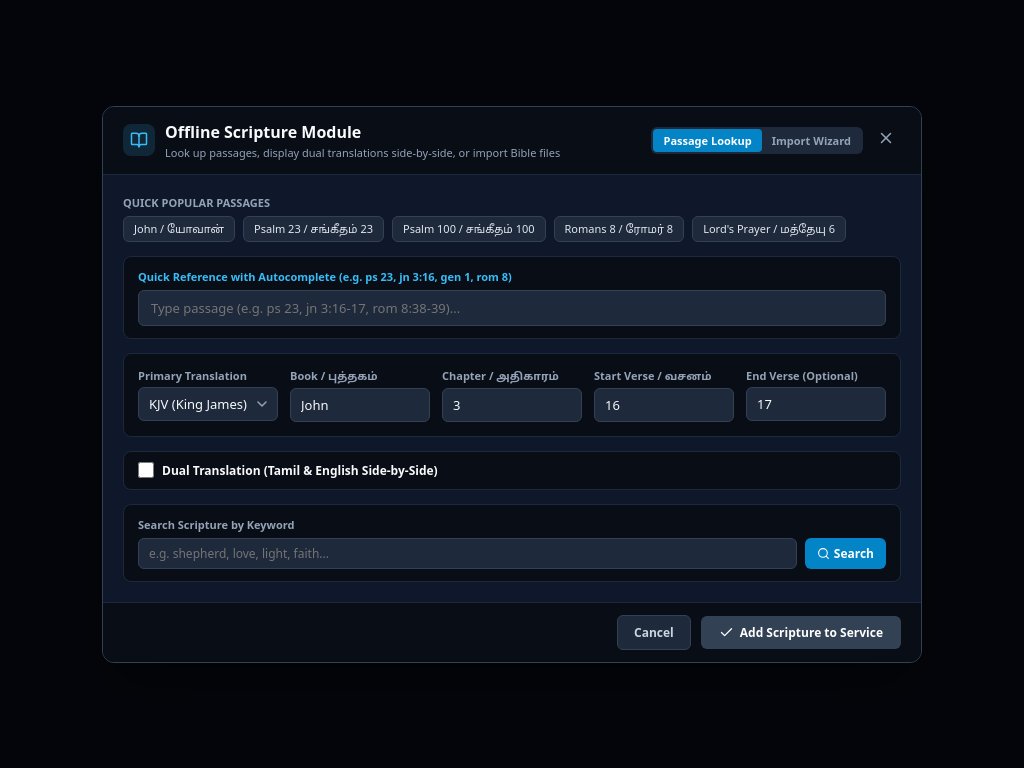
Test: Bible lookup box › choosing a book moves on to its chapters, and choosing a passage fills the reference
Type "joh" into the field with test id "quick-reference-input" at (512, 308), box [138, 290, 886, 326]
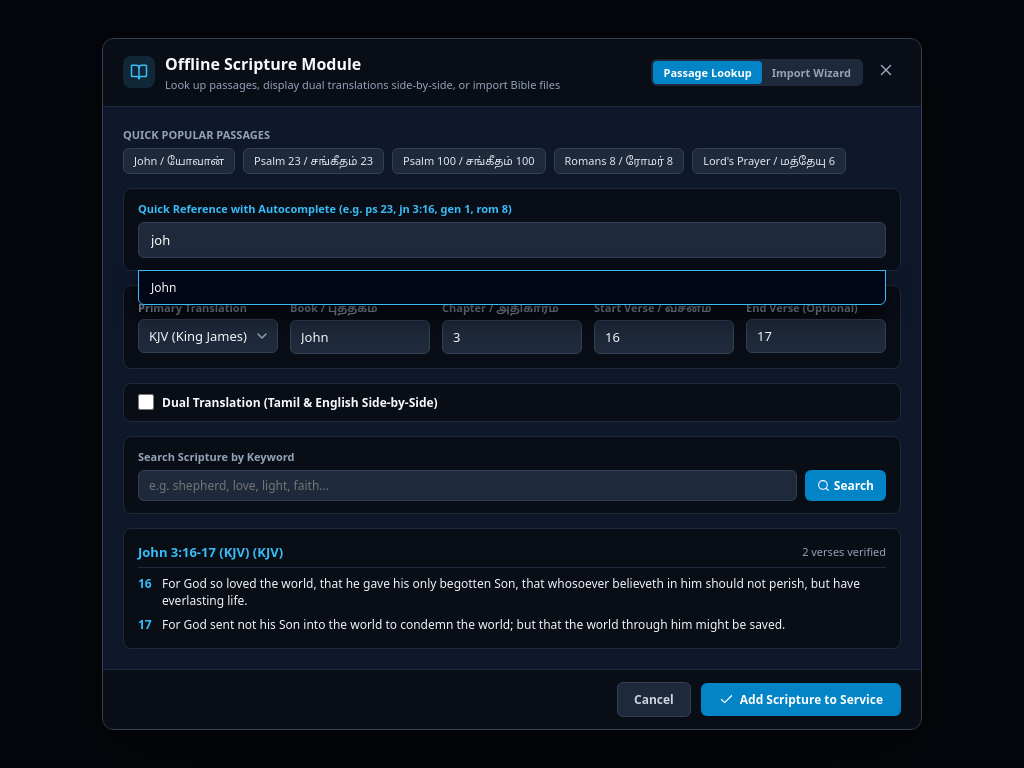
Click the button "John" at (164, 287), box [139, 271, 885, 304]
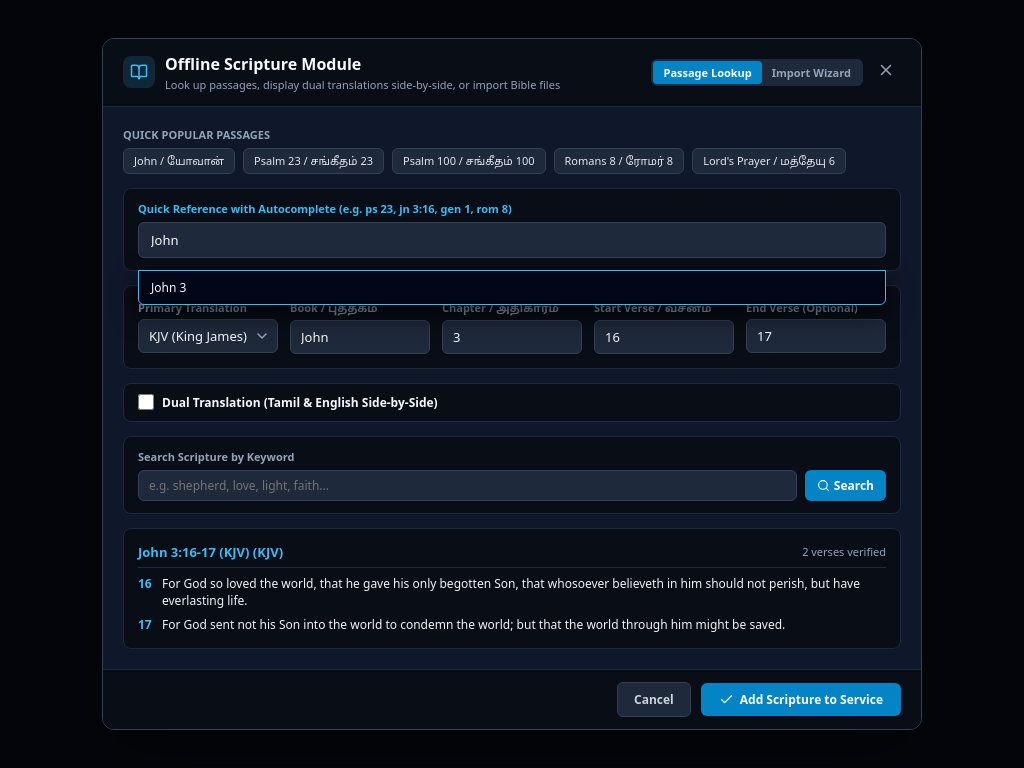
Result: the field with test id "quick-reference-input" holds "John " at [138, 222, 886, 258]
Click the button "John 3" at (169, 287), box [139, 271, 885, 304]
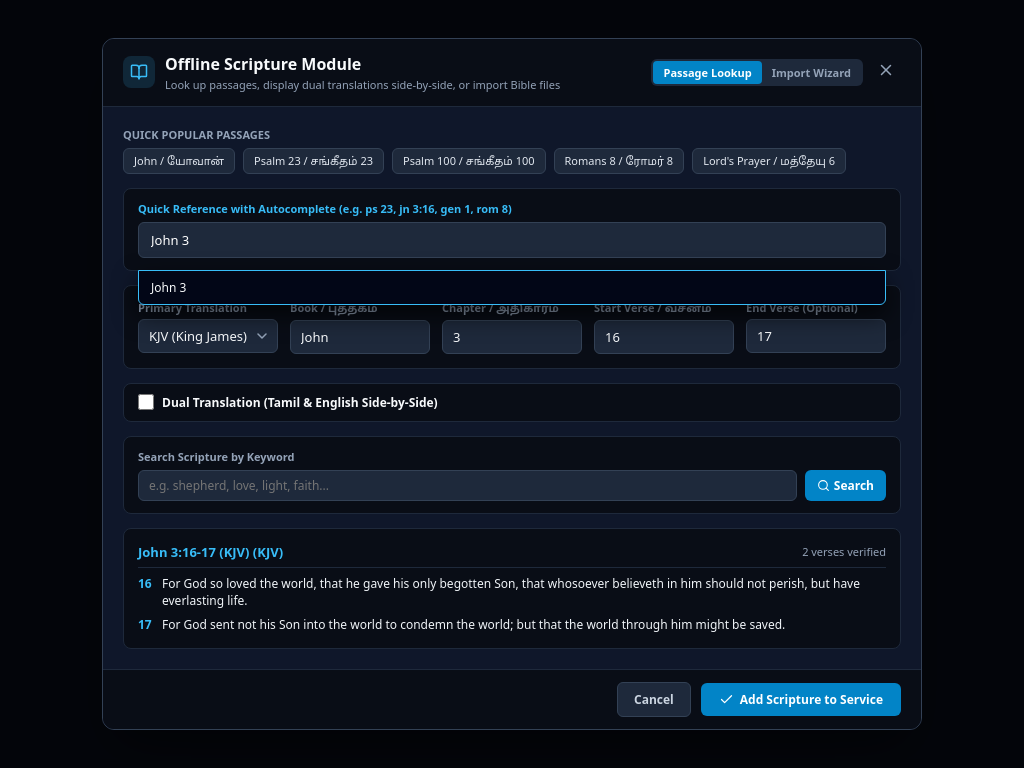
Result: the field with test id "quick-reference-input" holds "John 3"
Replace the text in the field with test id "quick-reference-input" with "john 3:16-17" at (512, 240), box [138, 222, 886, 258]
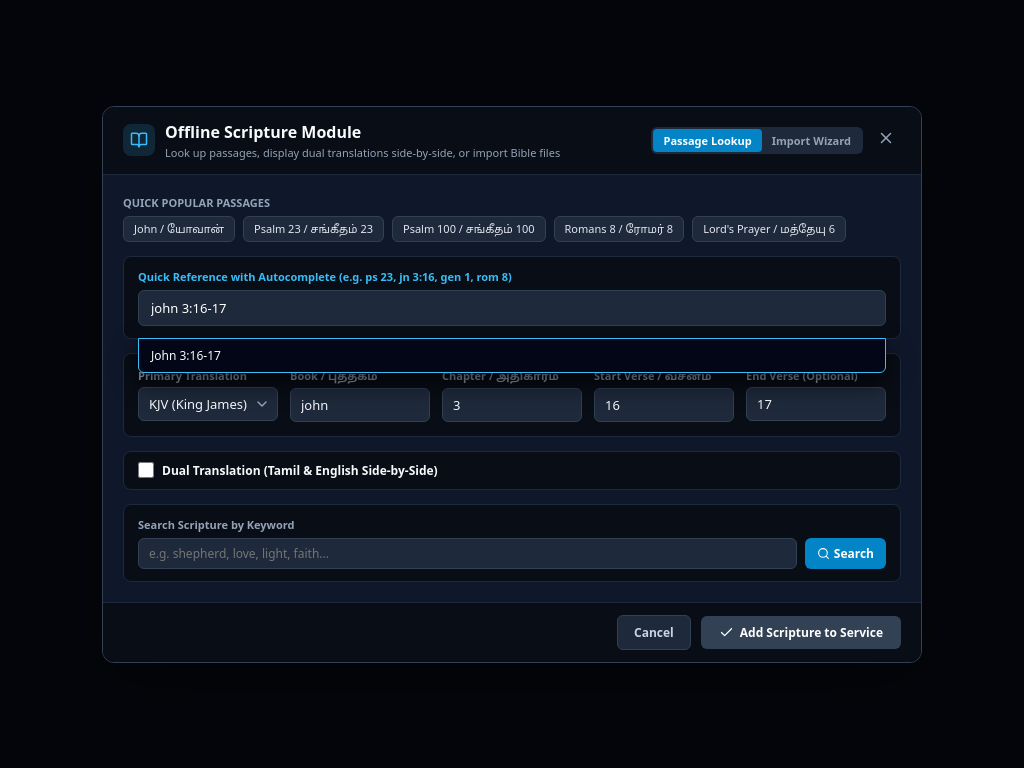
Click the button "John 3:16-17" at (186, 355), box [139, 338, 885, 372]
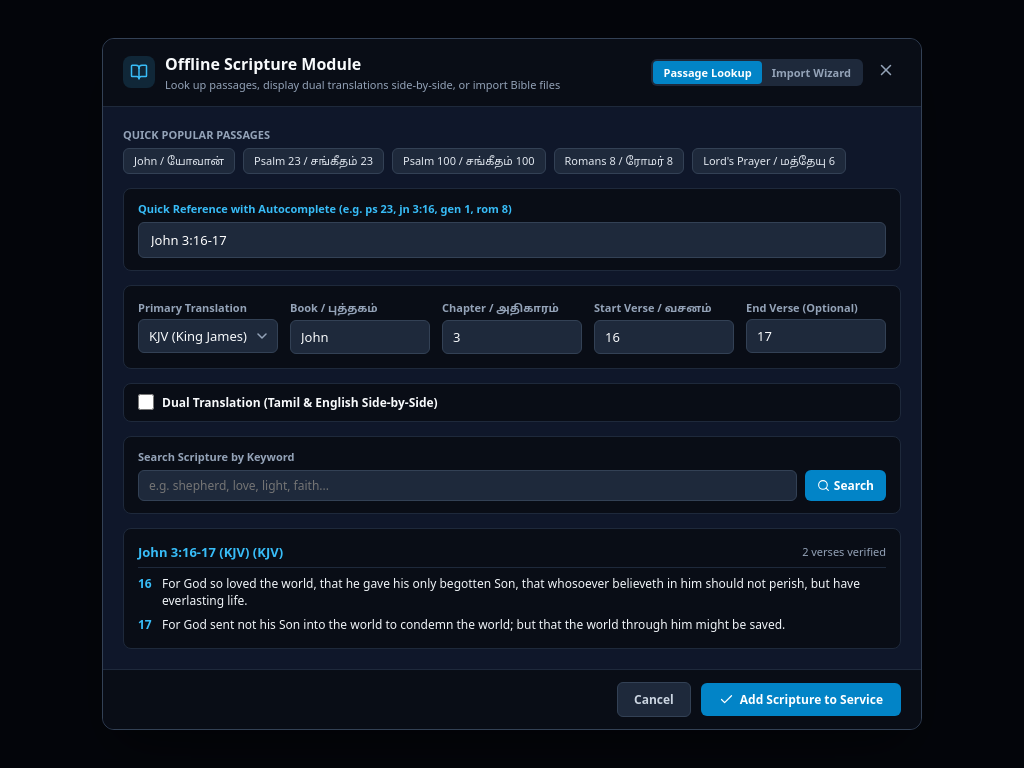
Result: the element with test id "autocomplete-dropdown" is gone
